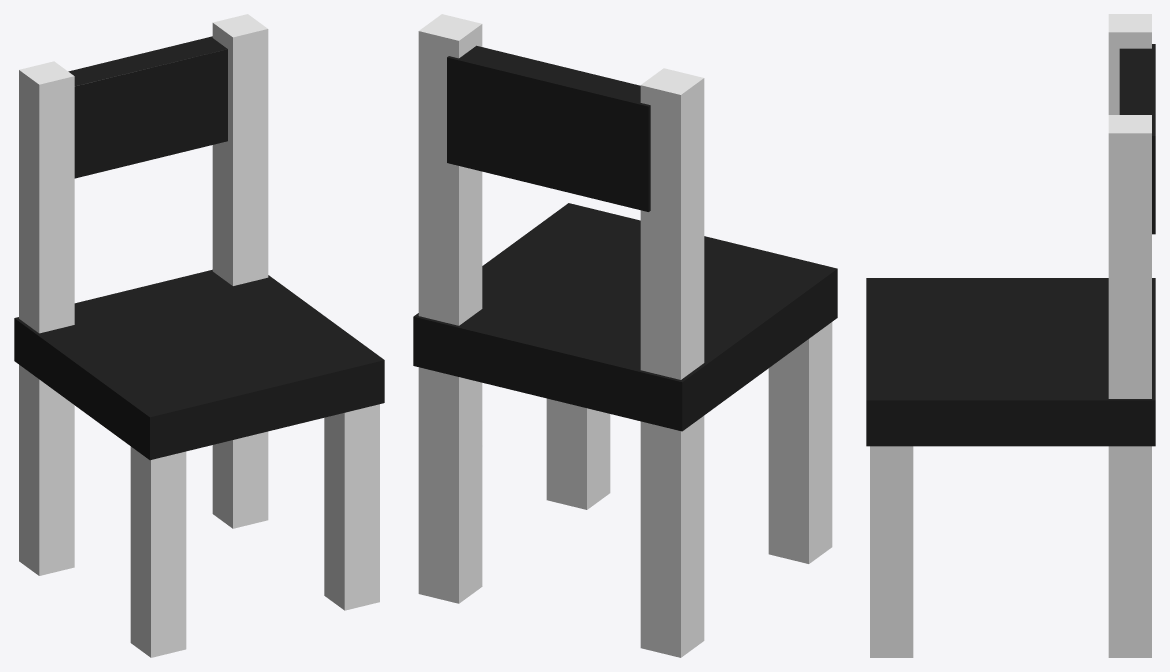
Rendered from chair2_modern.glb.
3 renders of one model, left to right at view 1: azimuth 30°, elevation 25°; view 2: azimuth 150°, elevation 25°; view 3: azimuth 270°, elevation 25°, orthographic. The views are drawn at different scales.
Parts seen in each view (by area): view 1: Box006; view 2: Box006; view 3: Box006.
Boxes of the visible parts, left/top/right/bottom form: Box006: left=14, top=14, right=384, bottom=657; Box006: left=413, top=14, right=837, bottom=657; Box006: left=866, top=14, right=1155, bottom=657.
Size of the model in its own units: 0.08 by 0.16 by 0.08.
1 material, 1 textured.
